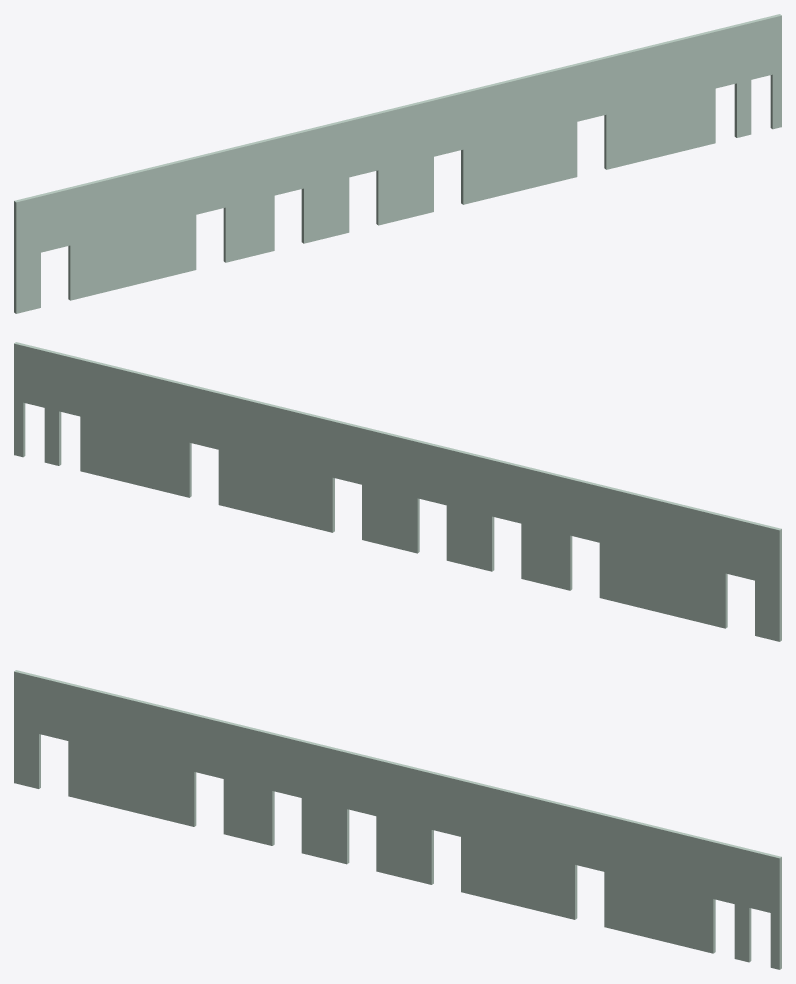
3 renders of one model, top to bottom at view 1: azimuth 30°, elevation 25°; view 2: azimuth 150°, elevation 25°; view 3: azimuth 330°, elevation 25°, orthographic.
Parts seen in each view (by area): view 1: 1HkW9JeWLCeADOOael3y4U_h20334; view 2: 1HkW9JeWLCeADOOael3y4U_h20334; view 3: 1HkW9JeWLCeADOOael3y4U_h20334.
Boxes of the visible parts, x1,y1,x2,y2 form: 1HkW9JeWLCeADOOael3y4U_h20334: (14, 14, 781, 313); 1HkW9JeWLCeADOOael3y4U_h20334: (14, 342, 781, 641); 1HkW9JeWLCeADOOael3y4U_h20334: (14, 670, 781, 969).
Size of the model in its own units: 30.61 by 4.26 by 0.15.
